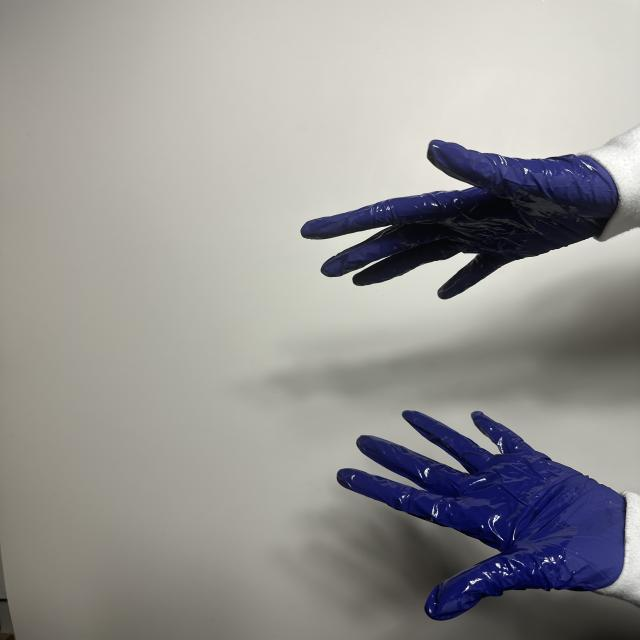gloves_contaminated: (338, 411, 626, 619), (301, 141, 621, 299)
